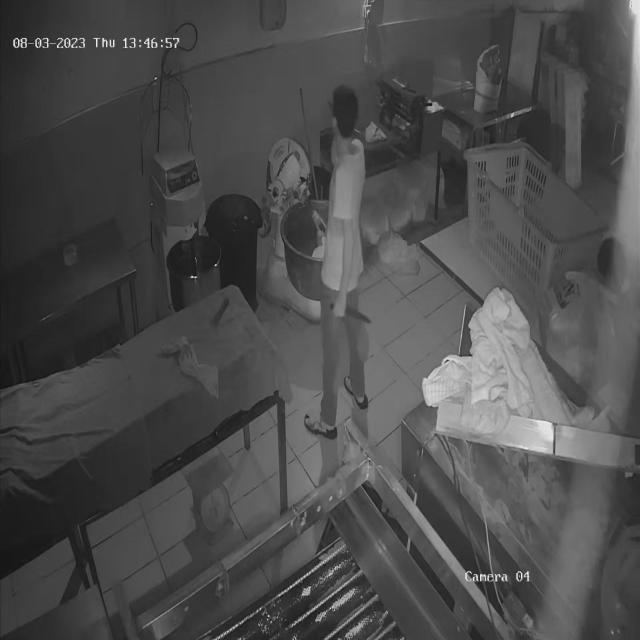Knife: (323, 301, 379, 333)
